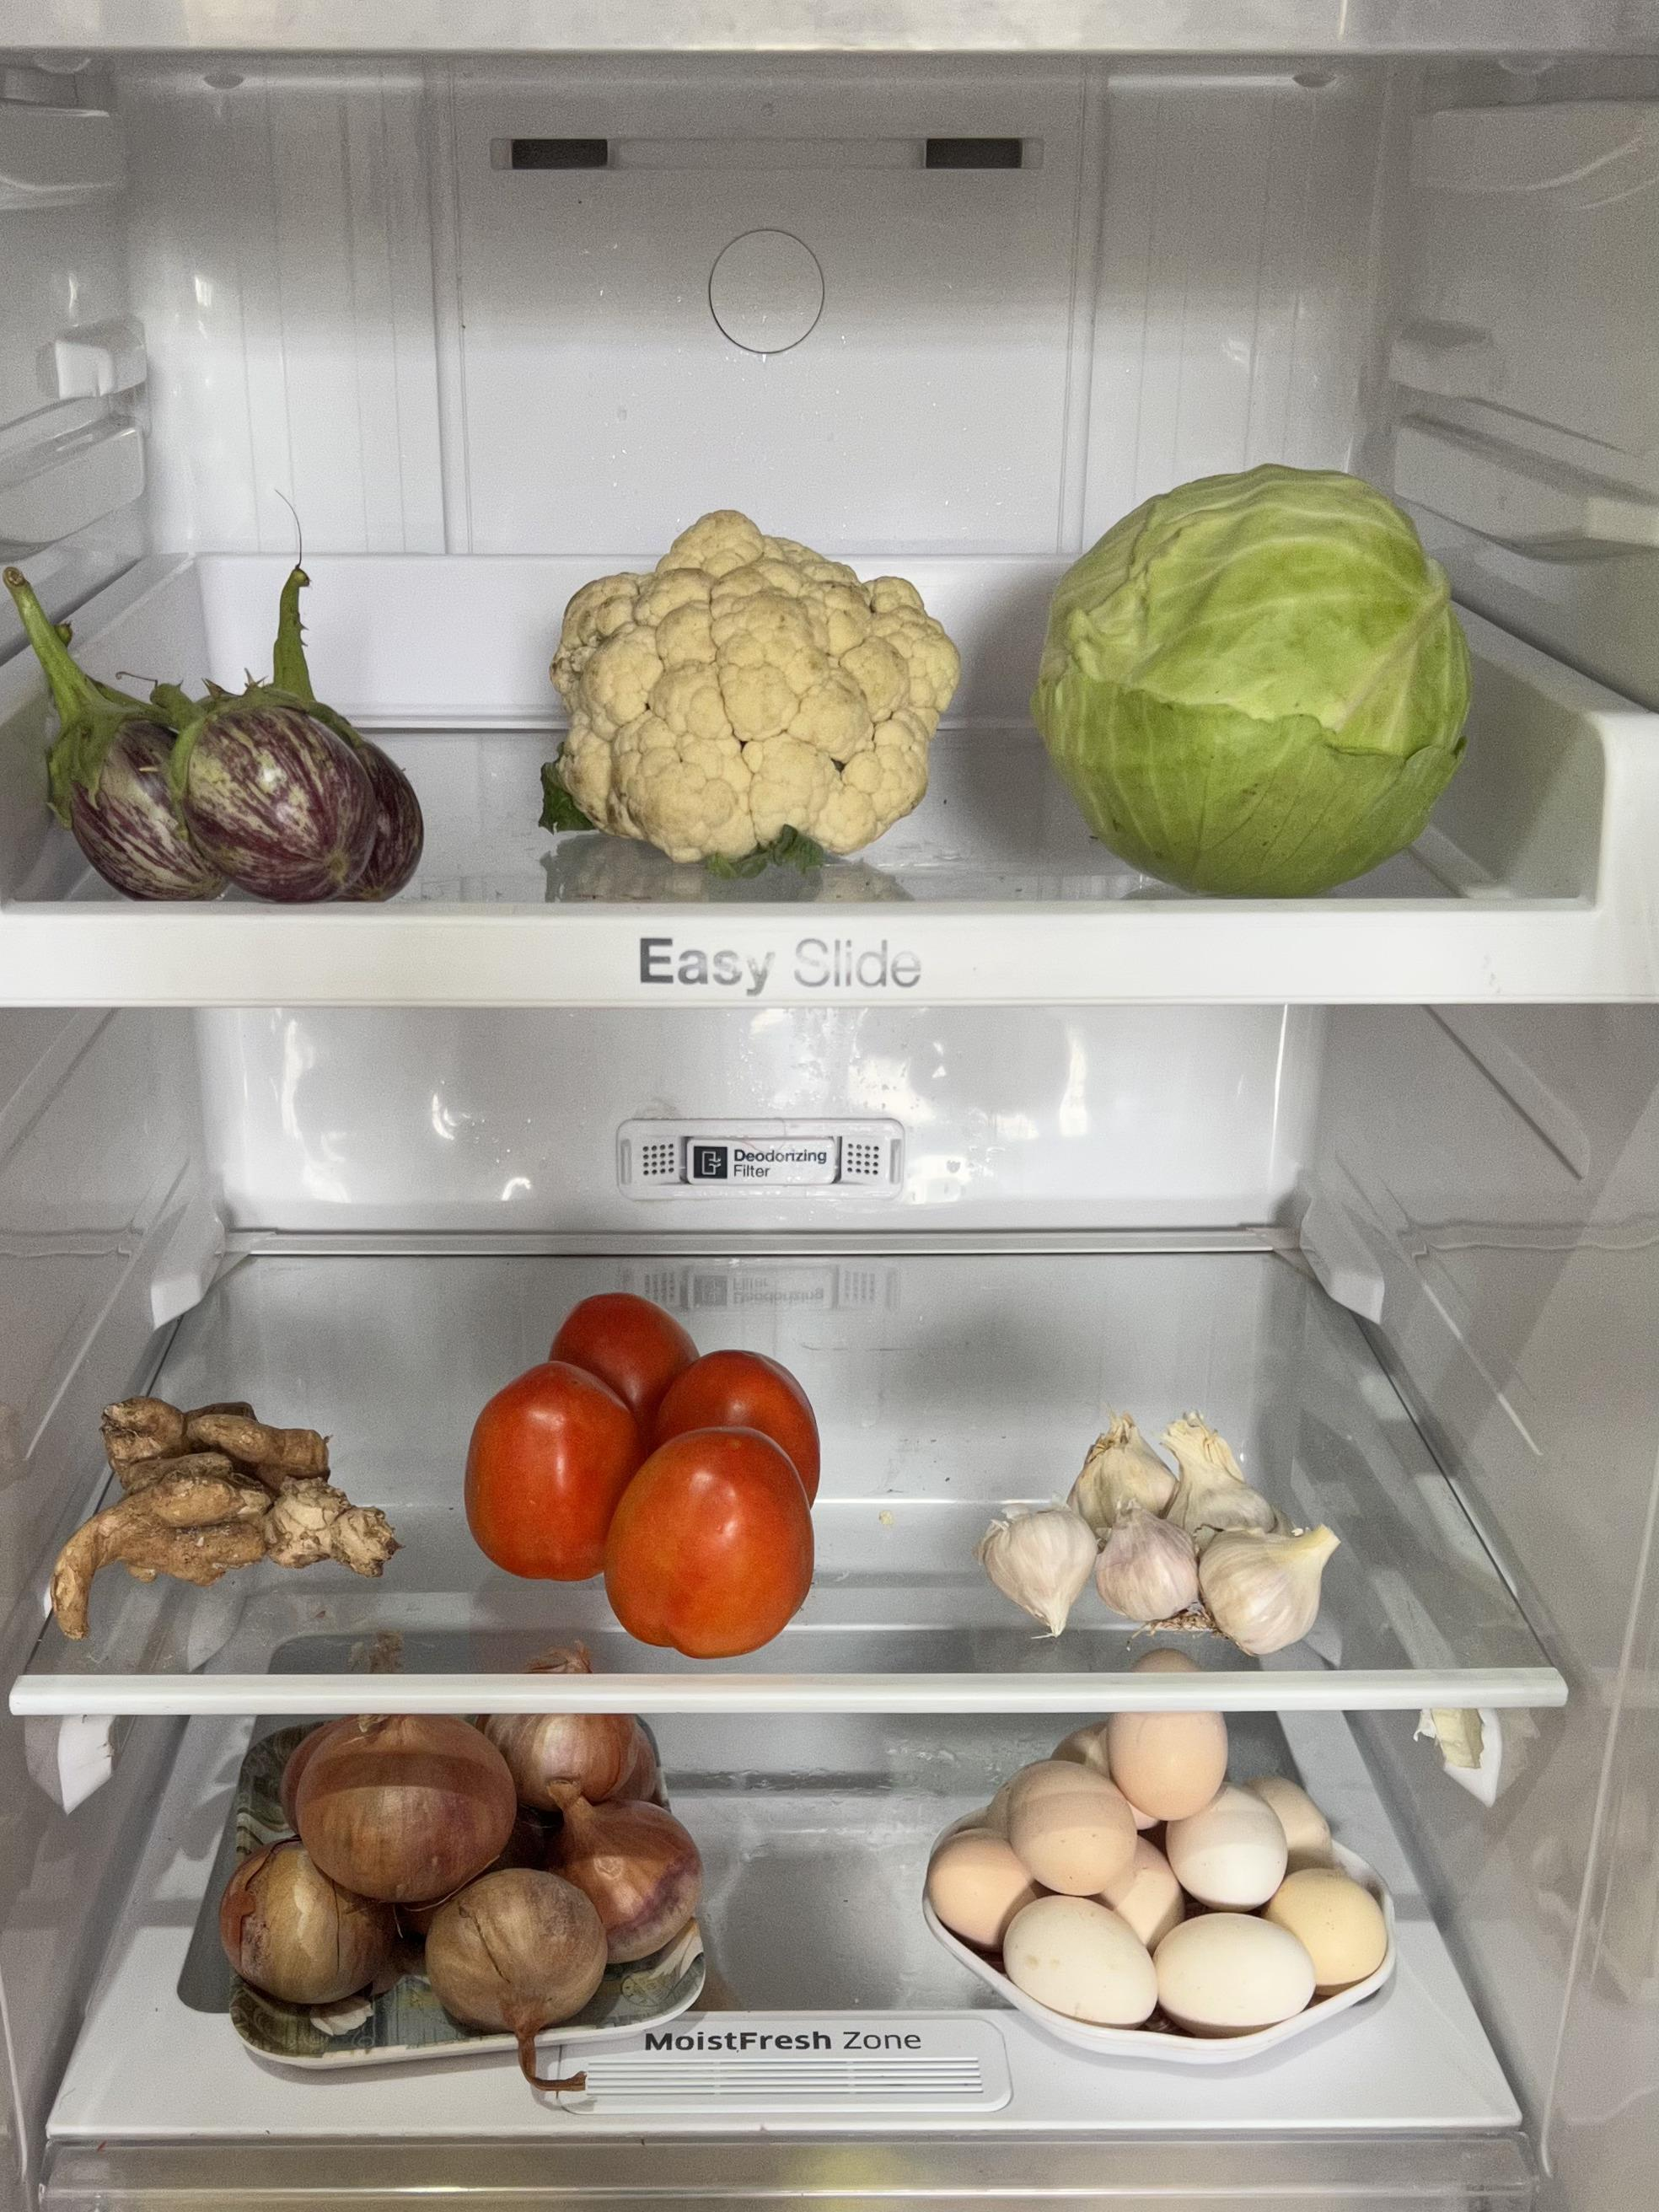bringal: (42, 610, 415, 899)
cabbage: (1046, 465, 1460, 878)
cauliflower: (549, 510, 943, 852)
egg: (920, 1707, 1384, 2024)
garlic: (974, 1413, 1338, 1660)
ginger: (56, 1388, 382, 1616)
onion: (213, 1709, 706, 2047)
tomato: (469, 1287, 823, 1656)
